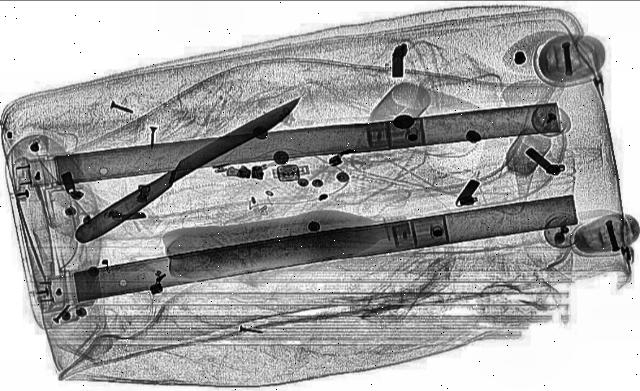Knife: (64, 92, 310, 245)
